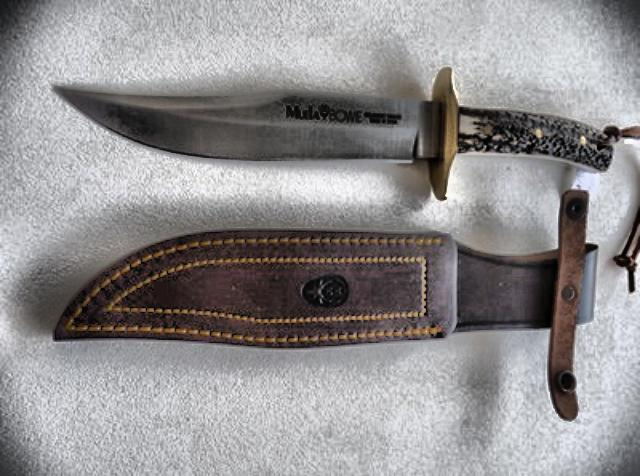knife: (39, 76, 445, 180)
